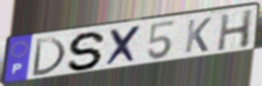5: (146, 18, 178, 62)
D: (30, 36, 69, 78)
H: (215, 8, 255, 53)
K: (183, 16, 214, 55)
S: (66, 30, 109, 72)
X: (104, 23, 144, 68)
